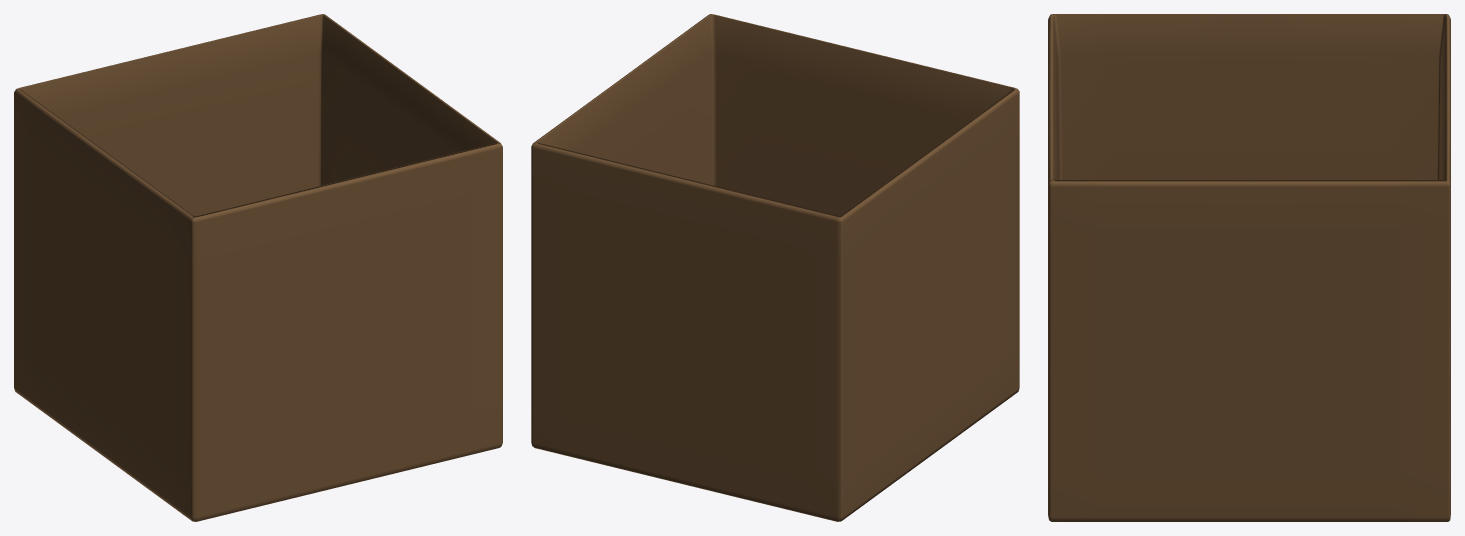
3 views of the same model, side by side, from view 1: azimuth 30°, elevation 25°; view 2: azimuth 150°, elevation 25°; view 3: azimuth 270°, elevation 25° (orthographic). The views are drawn at different scales.
Visible parts, largest first — view 1: pCube1; view 2: pCube1; view 3: pCube1.
Boxes of the visible parts, x1=… form: pCube1: x1=14, y1=14, x2=502, y2=521; pCube1: x1=531, y1=14, x2=1019, y2=521; pCube1: x1=1048, y1=14, x2=1450, y2=521.
Size of the model in its own units: 0.2417 by 0.2261 by 0.2417.
